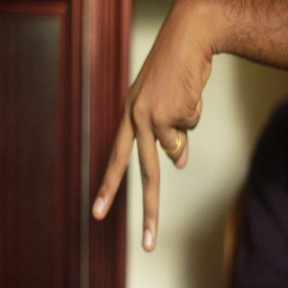Y: (87, 52, 209, 253)
